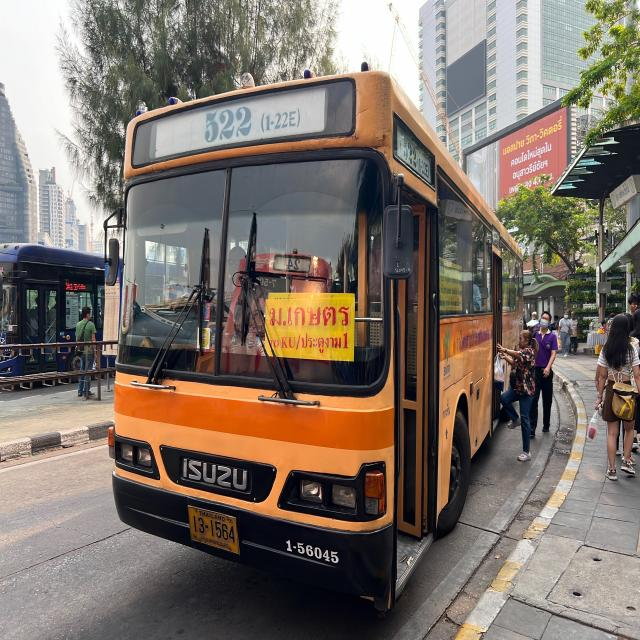BMTA-bus: (109, 57, 529, 624)
Bus-Line-Number: (196, 104, 307, 148)
Destination-Sign-Extra-Bus-Expressway: (262, 292, 356, 360)
